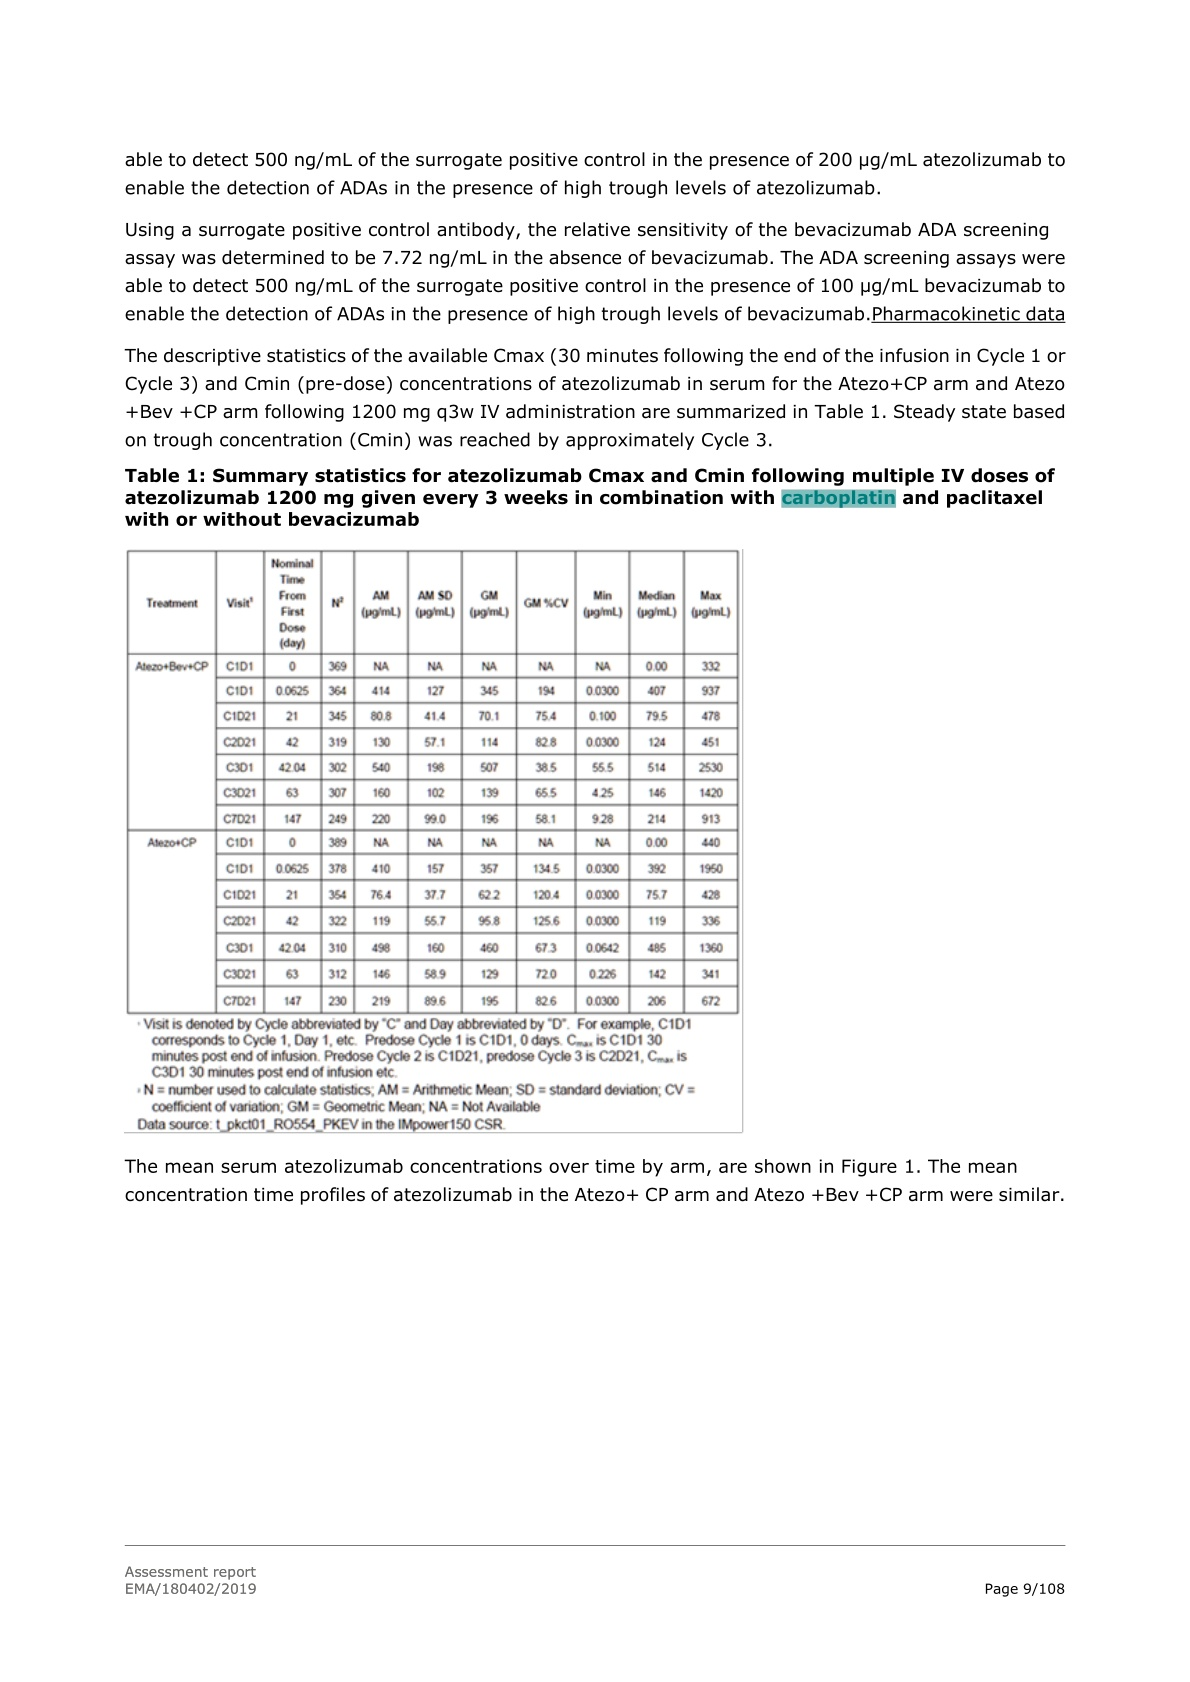merged_cells: (125, 547, 741, 1015)
